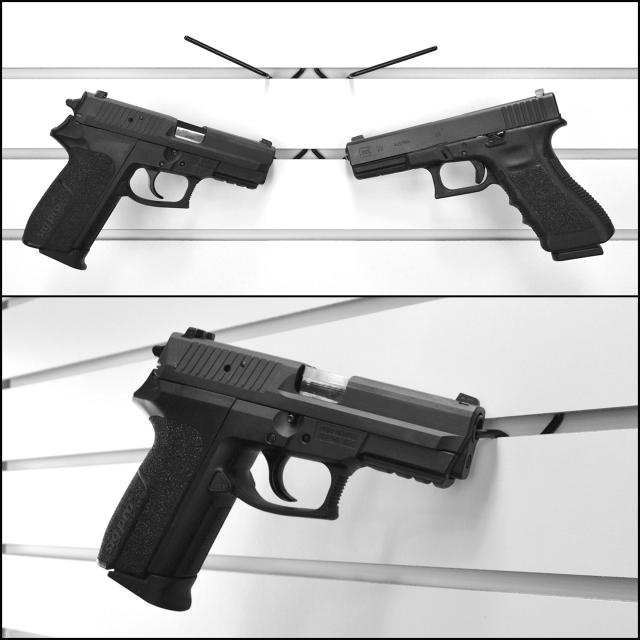HandGun: (98, 329, 488, 614), (344, 91, 616, 263), (22, 92, 278, 272)
